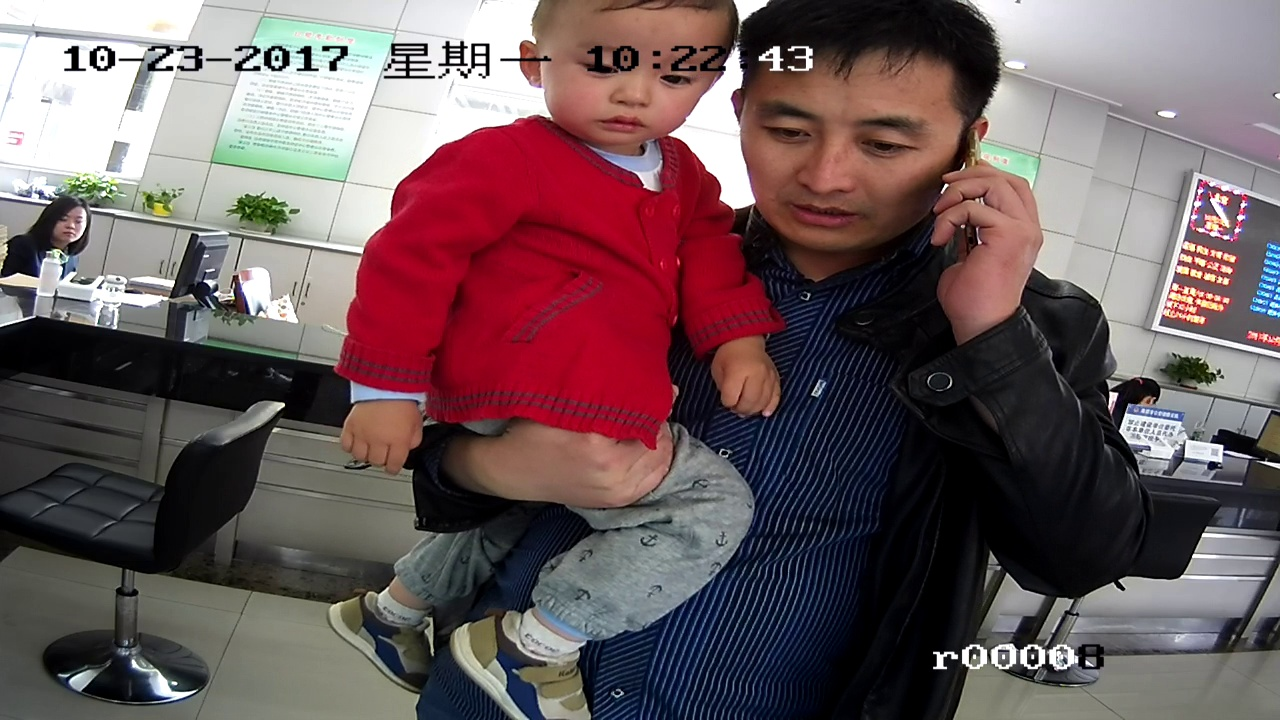billboard: (249, 16, 366, 183)
chair: (11, 409, 298, 709)
person: (743, 5, 1147, 691), (517, 2, 728, 298), (12, 202, 97, 281)
pot: (236, 189, 291, 235), (140, 184, 183, 215), (71, 180, 114, 204)
